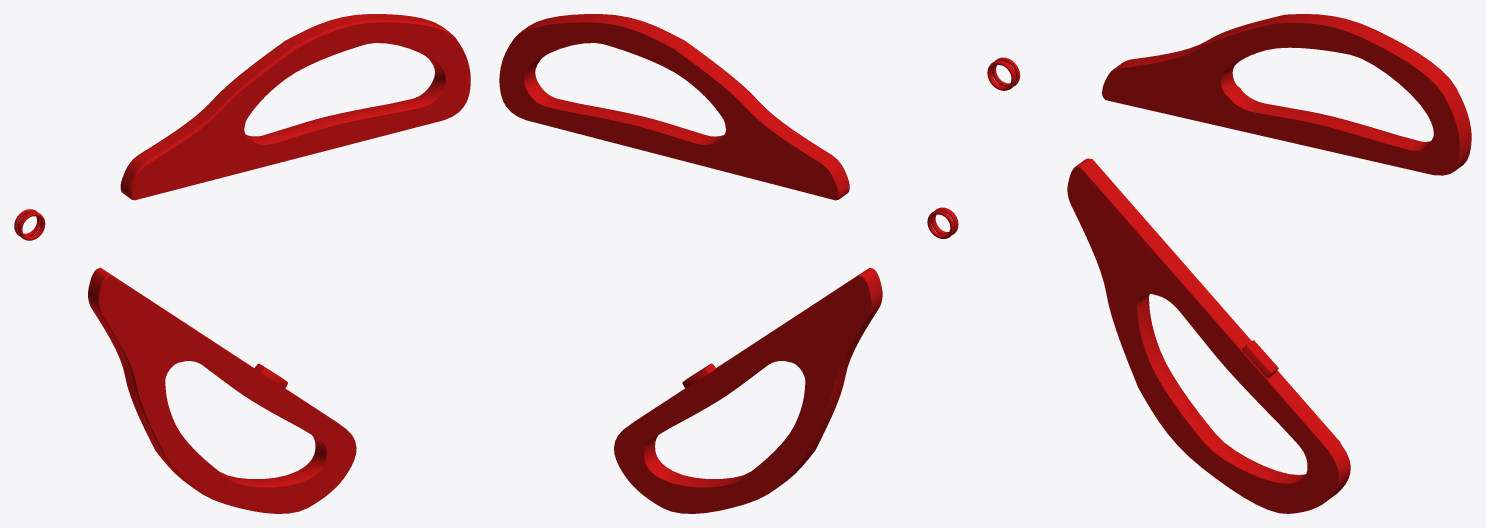
3 renders of one model, left to right at view 1: azimuth 30°, elevation 25°; view 2: azimuth 150°, elevation 25°; view 3: azimuth 330°, elevation 25°, orthographic. The views are drawn at different scales.
Bounding box in the file's own units: 0.5992 × 0.6029 × 0.0259.
